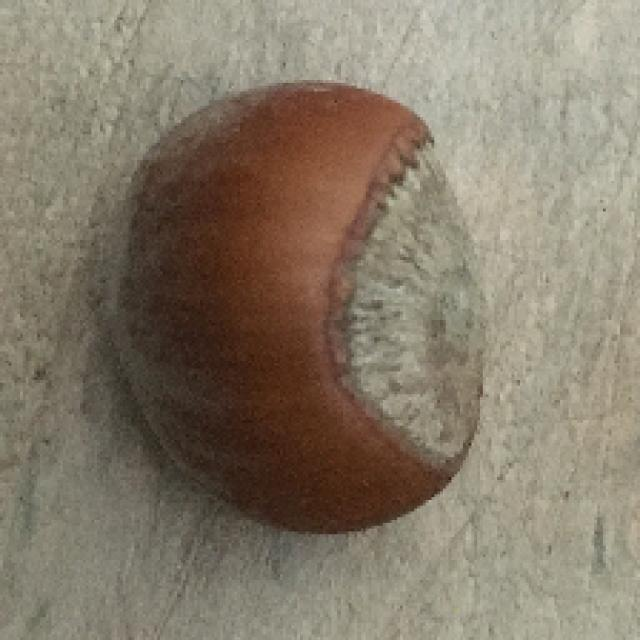qualityHazelnut: (84, 80, 488, 540)
